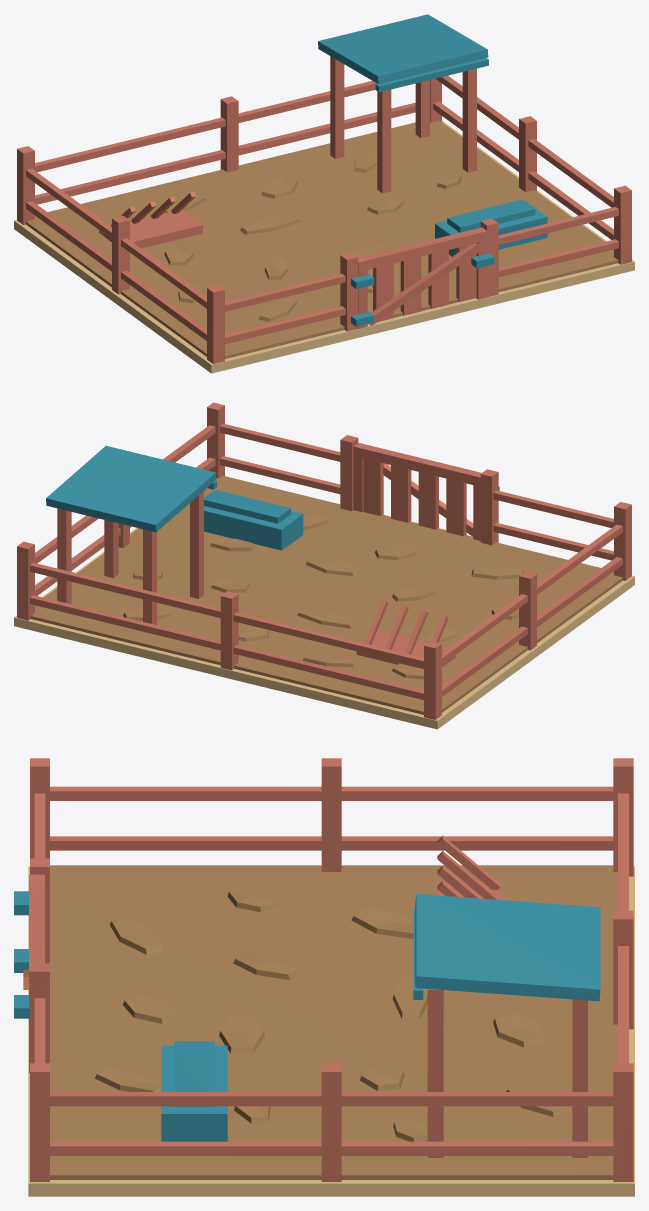
Rendered from animal-pasture.source.glb.
3 views of the same model, one above another, from view 1: azimuth 30°, elevation 25°; view 2: azimuth 150°, elevation 25°; view 3: azimuth 270°, elevation 25° (orthographic). The views are drawn at different scales.
Visible parts, largest first — view 1: animal-pasture-thin-grass-sward-mesh, animal-pasture-broad-earth-terrain-pad-mesh, animal-pasture-small-open-shade-roof-mesh, animal-pasture-rear-rail-1-mesh, animal-pasture-rear-rail-2-mesh, animal-pasture-left-rail-1-mesh, animal-pasture-left-rail-2-mesh, animal-pasture-right-rail-2-mesh, animal-pasture-right-rail-1-mesh, animal-pasture-low-feed-rack-bed-mesh, animal-pasture-gate-top-frame-mesh, animal-pasture-front-left-shade-post-mesh (+28 smaller); view 2: animal-pasture-thin-grass-sward-mesh, animal-pasture-small-open-shade-roof-mesh, animal-pasture-broad-earth-terrain-pad-mesh, animal-pasture-rear-rail-1-mesh, animal-pasture-rear-rail-2-mesh, animal-pasture-compact-water-trough-mesh, animal-pasture-left-rail-1-mesh, animal-pasture-left-rail-2-mesh, animal-pasture-gate-top-frame-mesh, animal-pasture-water-trough-inset-mesh, animal-pasture-front-left-shade-post-mesh, animal-pasture-rear-left-boundary-post-mesh (+31 smaller); view 3: animal-pasture-thin-grass-sward-mesh, animal-pasture-small-open-shade-roof-mesh, animal-pasture-broad-earth-terrain-pad-mesh, animal-pasture-left-rail-2-mesh, animal-pasture-right-rail-1-mesh, animal-pasture-right-rail-2-mesh, animal-pasture-left-rail-1-mesh, animal-pasture-compact-water-trough-mesh, animal-pasture-rear-rail-2-mesh, animal-pasture-rear-right-boundary-post-mesh, animal-pasture-right-mid-boundary-post-mesh, animal-pasture-left-mid-boundary-post-mesh (+25 smaller).
Part boxes in pixels (x1,y1,x2,y2): animal-pasture-thin-grass-sward-mesh: [26, 120, 618, 358]; animal-pasture-broad-earth-terrain-pad-mesh: [14, 121, 634, 373]; animal-pasture-small-open-shade-roof-mesh: [318, 14, 488, 83]; animal-pasture-rear-rail-1-mesh: [35, 102, 415, 204]; animal-pasture-rear-rail-2-mesh: [35, 80, 376, 172]; animal-pasture-left-rail-1-mesh: [26, 201, 206, 340]; animal-pasture-left-rail-2-mesh: [26, 169, 206, 308]; animal-pasture-right-rail-2-mesh: [436, 75, 613, 207]; animal-pasture-right-rail-1-mesh: [433, 101, 613, 239]; animal-pasture-low-feed-rack-bed-mesh: [104, 210, 202, 248]; animal-pasture-gate-top-frame-mesh: [358, 228, 487, 271]; animal-pasture-front-left-shade-post-mesh: [377, 89, 391, 193]; animal-pasture-thin-grass-sward-mesh: [30, 475, 622, 714]; animal-pasture-small-open-shade-roof-mesh: [46, 445, 216, 532]; animal-pasture-broad-earth-terrain-pad-mesh: [14, 528, 634, 729]; animal-pasture-rear-rail-1-mesh: [30, 595, 423, 699]; animal-pasture-rear-rail-2-mesh: [30, 562, 423, 667]; animal-pasture-compact-water-trough-mesh: [204, 491, 303, 550]; animal-pasture-left-rail-1-mesh: [442, 557, 622, 696]; animal-pasture-left-rail-2-mesh: [442, 524, 622, 664]; animal-pasture-gate-top-frame-mesh: [354, 443, 480, 486]; animal-pasture-water-trough-inset-mesh: [204, 490, 290, 523]; animal-pasture-front-left-shade-post-mesh: [190, 491, 203, 598]; animal-pasture-rear-left-boundary-post-mesh: [424, 641, 441, 719]; animal-pasture-thin-grass-sward-mesh: [50, 865, 617, 1179]; animal-pasture-small-open-shade-roof-mesh: [415, 894, 600, 1001]; animal-pasture-broad-earth-terrain-pad-mesh: [28, 866, 634, 1196]; animal-pasture-left-rail-2-mesh: [50, 786, 613, 800]; animal-pasture-right-rail-1-mesh: [50, 1141, 613, 1155]; animal-pasture-right-rail-2-mesh: [50, 1092, 613, 1106]; animal-pasture-left-rail-1-mesh: [50, 836, 613, 850]; animal-pasture-compact-water-trough-mesh: [161, 1045, 227, 1141]; animal-pasture-rear-rail-2-mesh: [618, 793, 628, 1063]; animal-pasture-rear-right-boundary-post-mesh: [613, 1063, 633, 1181]; animal-pasture-right-mid-boundary-post-mesh: [321, 1063, 341, 1181]; animal-pasture-left-mid-boundary-post-mesh: [321, 758, 341, 871].
Size of the model in its own units: 5.2 by 1.57 by 4.3.
